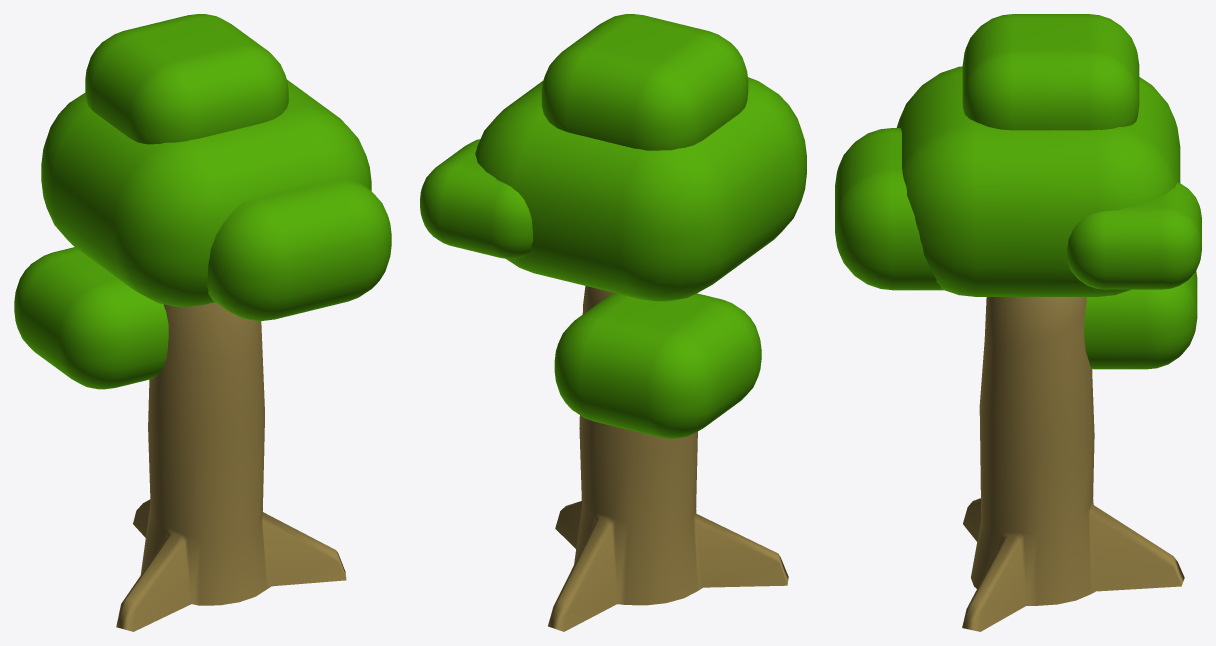
File: Tree.fbx
The picture shows the model from 3 angles, left to right: view 1: azimuth 30°, elevation 25°; view 2: azimuth 150°, elevation 25°; view 3: azimuth 270°, elevation 25°; orthographic projection.
Visible parts, largest first — view 1: pCylinder1, pCube1, pCube2, pCube3, pCube5; view 2: pCube1, pCylinder1, pCube5, pCube3, pCube4; view 3: pCylinder1, pCube1, pCube3, pCube2, pCube4, pCube5.
Boxes of the visible parts, box(x1,y1,x2,y2) form: pCylinder1: box(116, 302, 346, 631); pCube1: box(41, 79, 371, 306); pCube2: box(207, 177, 391, 320); pCube3: box(85, 14, 288, 144); pCube5: box(14, 247, 168, 389); pCube1: box(475, 77, 806, 301); pCylinder1: box(548, 286, 788, 631); pCube5: box(554, 293, 761, 438); pCube3: box(541, 14, 748, 150); pCube4: box(420, 139, 533, 258); pCylinder1: box(962, 297, 1184, 631); pCube1: box(896, 66, 1180, 296); pCube3: box(962, 14, 1139, 130); pCube2: box(835, 128, 943, 290); pCube4: box(1067, 182, 1201, 289); pCube5: box(1084, 271, 1197, 369).
Bounding box in the file's own units: 170 × 313 × 193.
